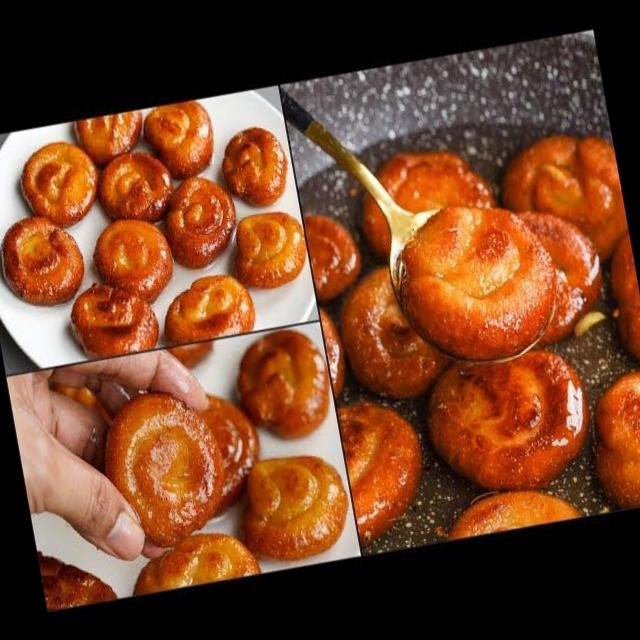jalebi: (0, 98, 355, 603), (301, 97, 640, 539)
